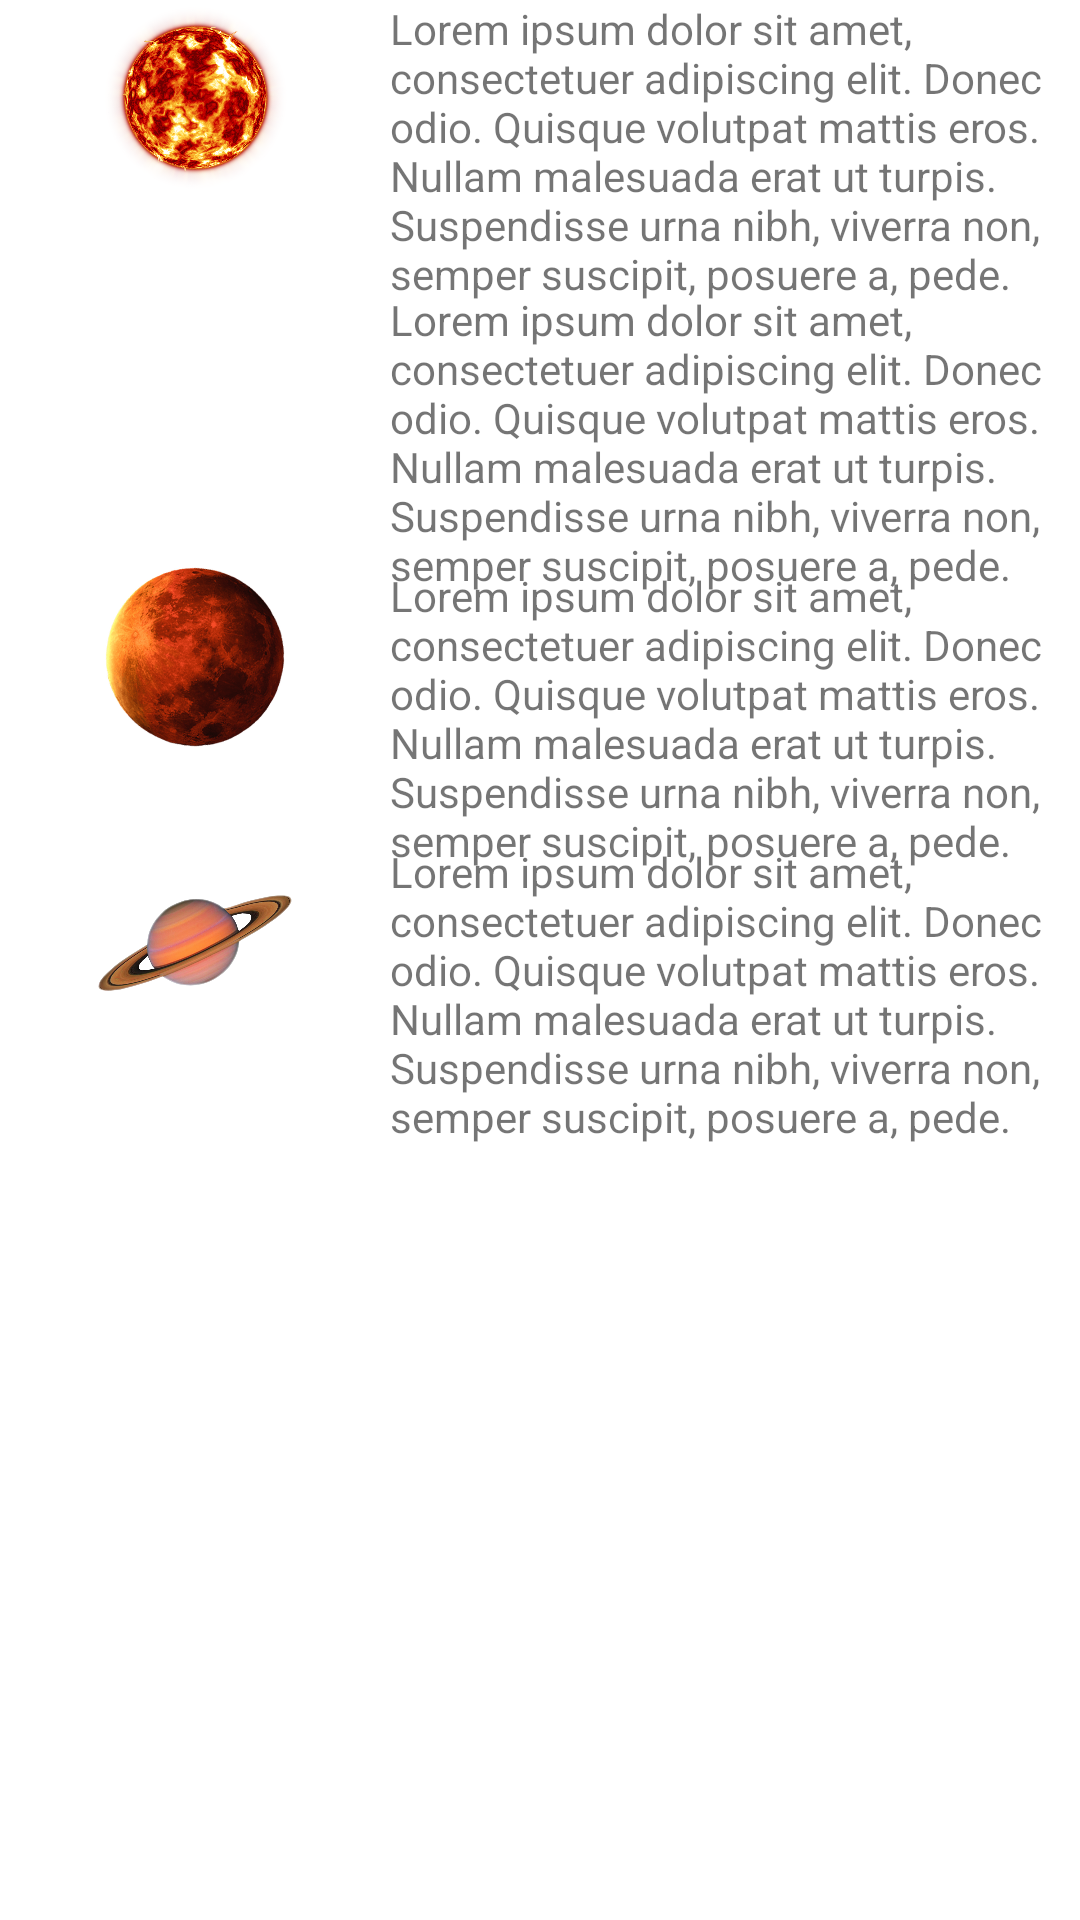

Named icons in this screenshot (1080px x 1920px) and their bounding boxes, (x1, y1, x2, y2):
mars: (106, 568, 284, 747)
saturn: (98, 895, 292, 991)
sun: (118, 20, 273, 175)
